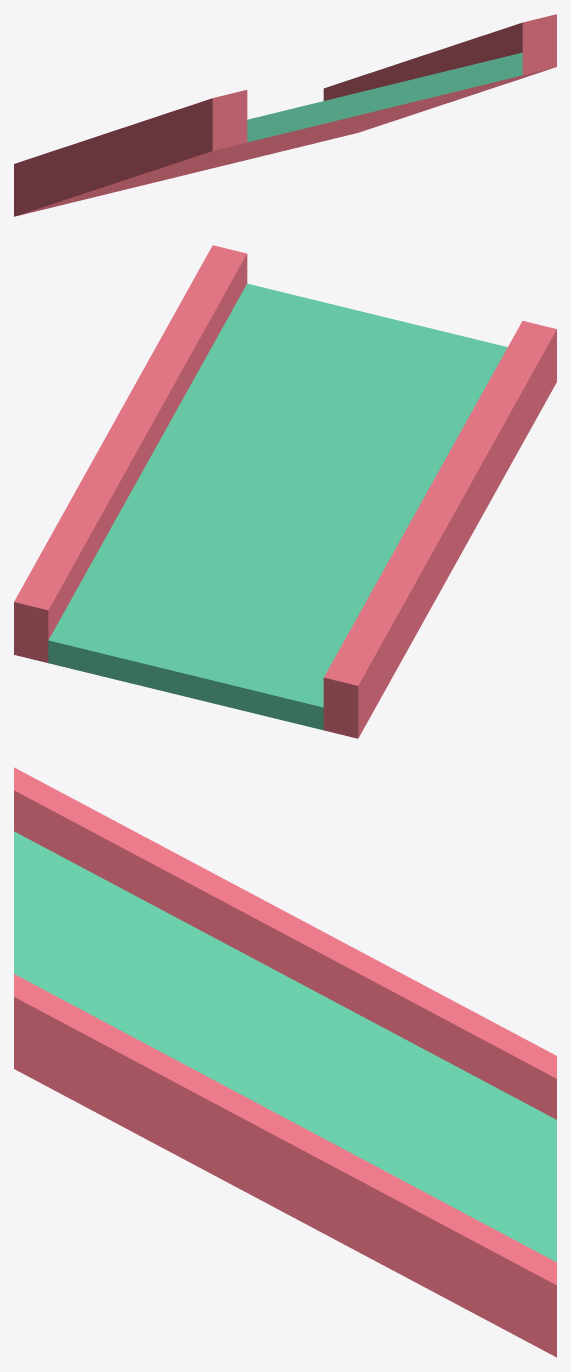
File: myRampD.fbx
3 views of the same model, one above another, from view 1: azimuth 30°, elevation 25°; view 2: azimuth 150°, elevation 25°; view 3: azimuth 270°, elevation 25° (orthographic). The views are drawn at different scales.
Parts seen in each view (by area): view 1: rampDRW, rampDLW, rampD; view 2: rampD, rampDRW, rampDLW; view 3: rampD, rampDLW, rampDRW.
Boxes of the visible parts, box(x1,y1,x2,y2) form: rampDRW: box(14, 76, 518, 216); rampDLW: box(53, 14, 556, 207); rampD: box(247, 52, 522, 142); rampD: box(48, 283, 507, 730); rampDRW: box(323, 321, 556, 738); rampDLW: box(14, 245, 247, 662); rampD: box(14, 831, 556, 1262); rampDLW: box(14, 974, 556, 1357); rampDRW: box(14, 767, 556, 1119).
Size of the model in its own units: 450 by 330 by 450.
